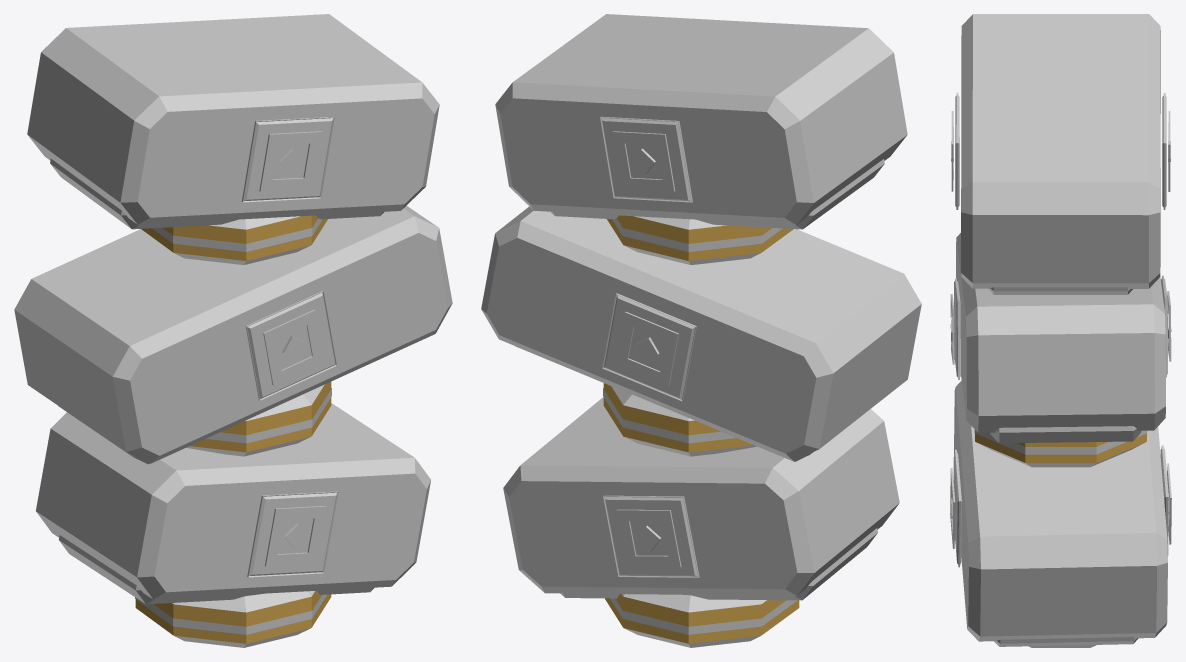
File: wand_motion_09.obj
The picture shows the model from 3 angles, left to right: view 1: azimuth 30°, elevation 25°; view 2: azimuth 150°, elevation 25°; view 3: azimuth 270°, elevation 25°; orthographic projection. The views are drawn at different scales.
Parts seen in each view (by area): view 1: chamfered_seal_tablet_2, chamfered_seal_tablet_1, chamfered_seal_tablet_0, tablet_spacer_0, tablet_spacer_2, inset_rune_socket_5, inset_rune_socket_3, inset_rune_socket_1, tablet_spacer_1, seal_shadow_base_0, seal_shadow_base_2, tablet_spacer_dark_seam_0 (+2 smaller); view 2: chamfered_seal_tablet_2, chamfered_seal_tablet_1, chamfered_seal_tablet_0, tablet_spacer_0, tablet_spacer_2, inset_rune_socket_0, inset_rune_socket_2, inset_rune_socket_4, tablet_spacer_1, seal_shadow_base_2, seal_shadow_base_0, tablet_spacer_dark_seam_0 (+2 smaller); view 3: chamfered_seal_tablet_2, chamfered_seal_tablet_0, chamfered_seal_tablet_1, tablet_spacer_1, seal_shadow_base_1, seal_shadow_base_2, seal_shadow_base_0, tablet_spacer_dark_seam_1, inset_rune_socket_1, inset_rune_socket_3, inset_rune_socket_5, inset_rune_socket_4 (+2 smaller).
Part boxes in pixels (x1=…): chamfered_seal_tablet_2: x1=27, y1=14, x2=439, y2=224; chamfered_seal_tablet_1: x1=14, y1=205, x2=452, y2=463; chamfered_seal_tablet_0: x1=36, y1=403, x2=430, y2=599; tablet_spacer_0: x1=135, y1=590, x2=331, y2=647; tablet_spacer_2: x1=141, y1=215, x2=327, y2=264; inset_rune_socket_5: x1=241, y1=116, x2=334, y2=202; inset_rune_socket_3: x1=245, y1=291, x2=336, y2=400; inset_rune_socket_1: x1=247, y1=491, x2=338, y2=577; tablet_spacer_1: x1=186, y1=382, x2=331, y2=456; seal_shadow_base_0: x1=59, y1=535, x2=374, y2=604; seal_shadow_base_2: x1=50, y1=159, x2=384, y2=229; tablet_spacer_dark_seam_0: x1=135, y1=594, x2=326, y2=634; chamfered_seal_tablet_2: x1=495, y1=14, x2=907, y2=224; chamfered_seal_tablet_1: x1=481, y1=206, x2=921, y2=461; chamfered_seal_tablet_0: x1=503, y1=397, x2=899, y2=595; tablet_spacer_0: x1=605, y1=594, x2=799, y2=647; tablet_spacer_2: x1=607, y1=215, x2=793, y2=264; inset_rune_socket_0: x1=603, y1=495, x2=699, y2=577; inset_rune_socket_2: x1=602, y1=293, x2=696, y2=401; inset_rune_socket_4: x1=600, y1=116, x2=692, y2=202; tablet_spacer_1: x1=603, y1=383, x2=756, y2=456; seal_shadow_base_2: x1=550, y1=159, x2=884, y2=229; seal_shadow_base_0: x1=560, y1=528, x2=877, y2=600; tablet_spacer_dark_seam_0: x1=610, y1=598, x2=797, y2=634; chamfered_seal_tablet_2: x1=961, y1=14, x2=1160, y2=288; chamfered_seal_tablet_0: x1=954, y1=380, x2=1167, y2=641; chamfered_seal_tablet_1: x1=956, y1=233, x2=1165, y2=432; tablet_spacer_1: x1=975, y1=433, x2=1146, y2=467; seal_shadow_base_1: x1=990, y1=426, x2=1141, y2=443; seal_shadow_base_2: x1=988, y1=287, x2=1132, y2=294; seal_shadow_base_0: x1=994, y1=637, x2=1138, y2=646; tablet_spacer_dark_seam_1: x1=974, y1=429, x2=1147, y2=454; inset_rune_socket_1: x1=953, y1=449, x2=961, y2=567; inset_rune_socket_3: x1=954, y1=278, x2=960, y2=379; inset_rune_socket_5: x1=955, y1=92, x2=959, y2=209; inset_rune_socket_4: x1=1162, y1=93, x2=1166, y2=209.
Size of the model in its own units: 0.198 by 0.3132 by 0.1147.
